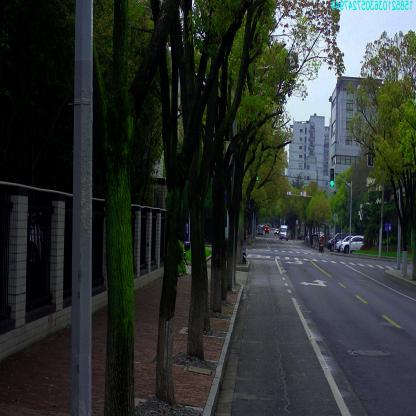traffic-light: (330, 168, 334, 186), (256, 170, 259, 180)
